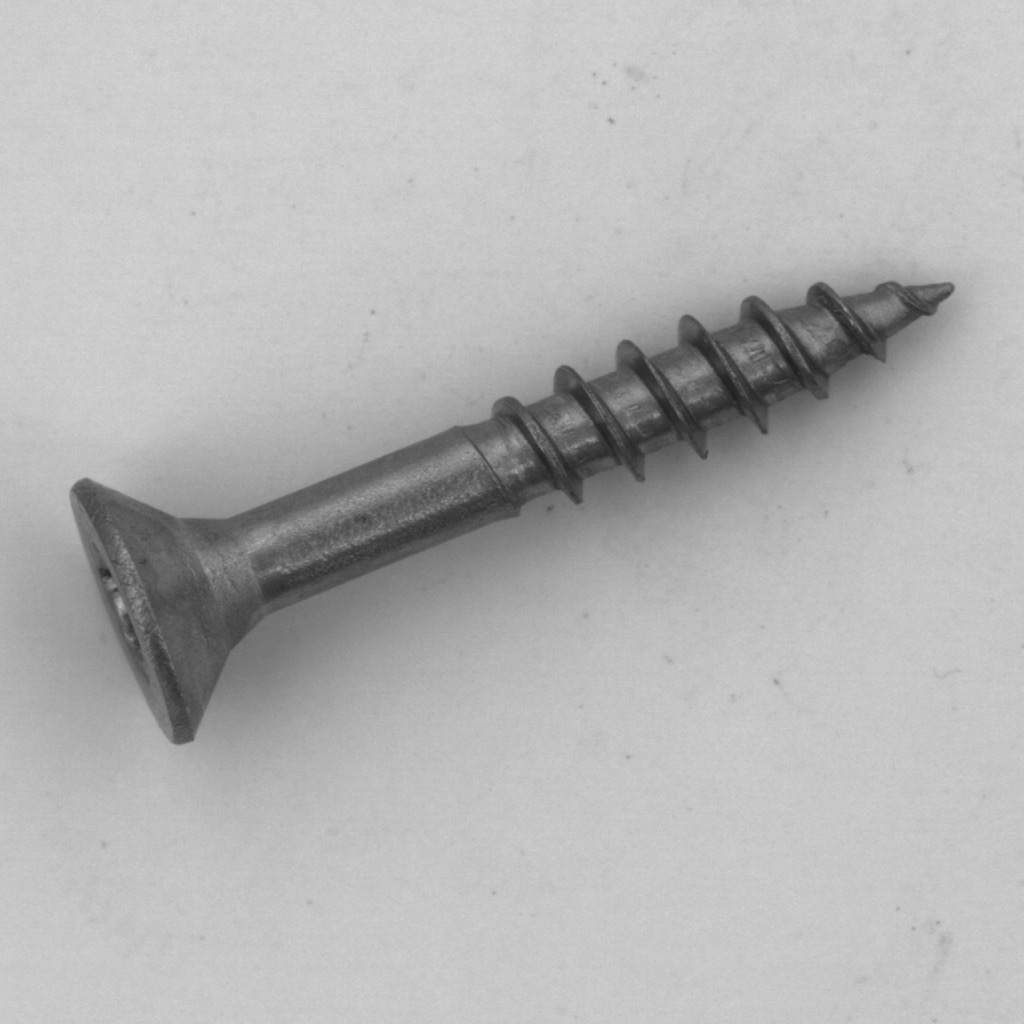good: (43, 251, 977, 766)
